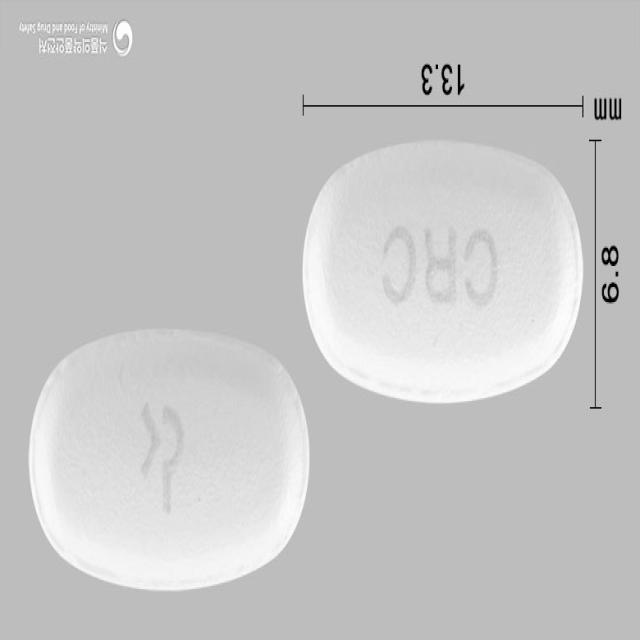Celltrion Clarithromycin - 500mg: (302, 139, 583, 406), (27, 328, 310, 593)
